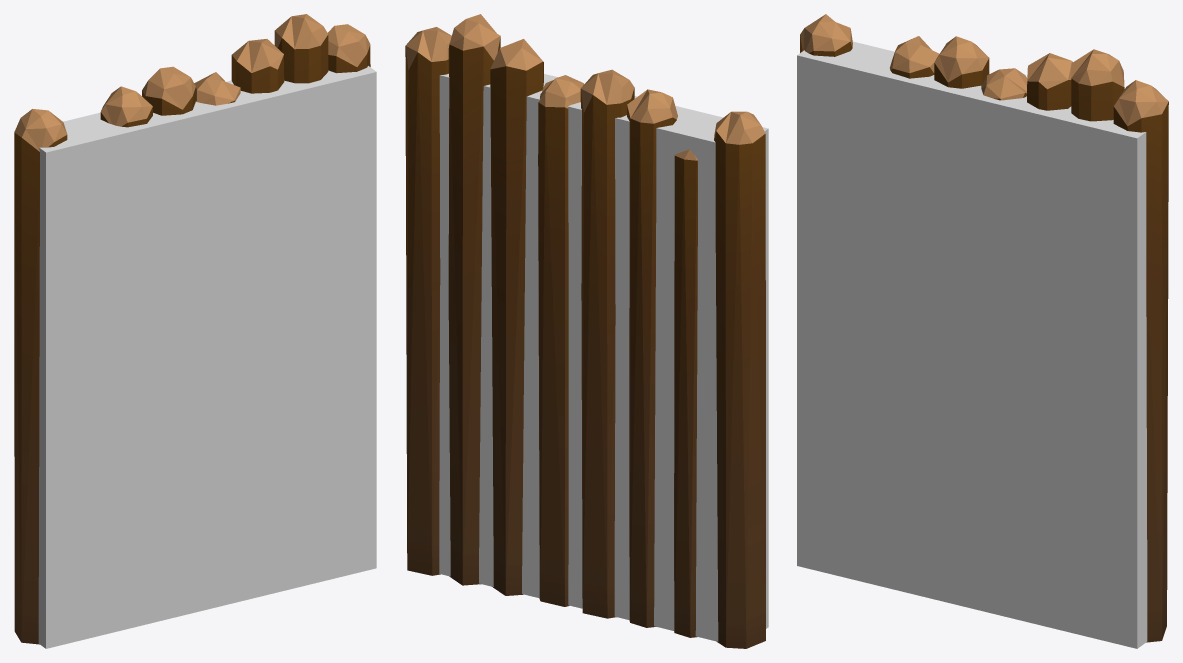
The model's file is palisade_2.glb.
The picture shows the model from 3 angles, left to right: view 1: azimuth 30°, elevation 25°; view 2: azimuth 150°, elevation 25°; view 3: azimuth 330°, elevation 25°; orthographic projection. The views are drawn at different scales.
Visible parts, largest first — view 1: Cube.001, FenceBig_02; view 2: FenceBig_02, Cube.001; view 3: Cube.001, FenceBig_02.
Part boxes in pixels (<box>): Cube.001: <box>38,66,376,648</box>; FenceBig_02: <box>14,14,370,644</box>; FenceBig_02: <box>405,14,765,648</box>; Cube.001: <box>439,73,768,641</box>; Cube.001: <box>797,41,1147,648</box>; FenceBig_02: <box>800,14,1168,642</box>.
Bounding box in the file's own units: 2.26 × 3.41 × 0.3643.
Materials: 1 (1 with a texture image).
